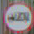Heavy Vehicles: (2, 0, 33, 30)
